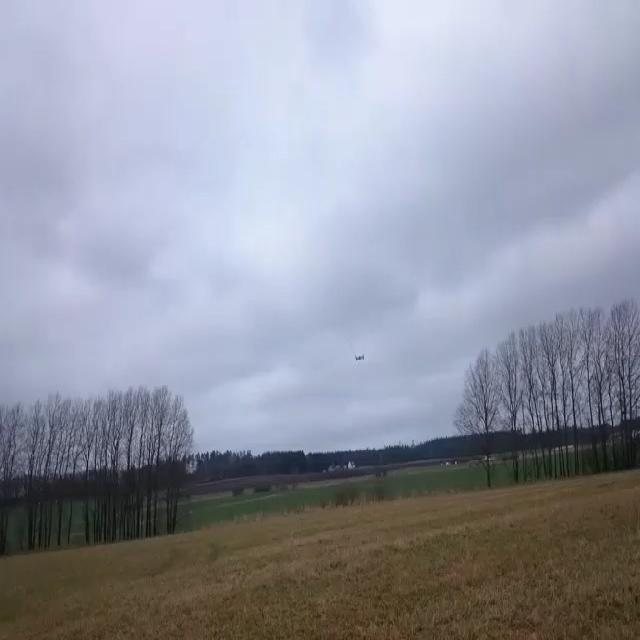drone: (354, 353, 365, 362)
